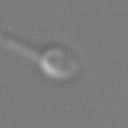normal: (1, 32, 44, 66)
